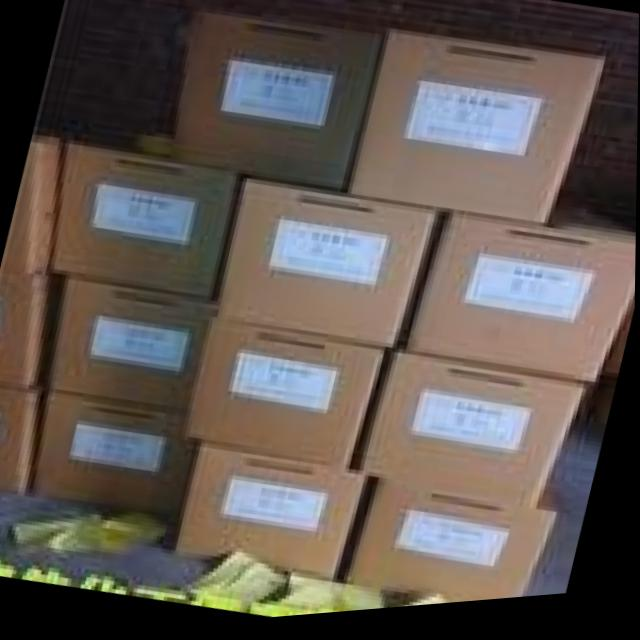box: (348, 36, 606, 237), (407, 204, 637, 390), (217, 179, 441, 356), (361, 353, 592, 517), (172, 10, 379, 192), (49, 137, 244, 301), (183, 318, 388, 473), (335, 479, 561, 611), (177, 443, 372, 585), (49, 273, 217, 414), (36, 386, 204, 521), (1, 131, 64, 273), (0, 268, 49, 391), (0, 381, 47, 497)
